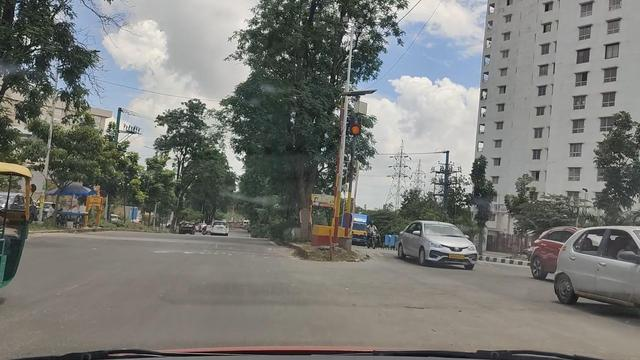LMV: (401, 215, 476, 268)
